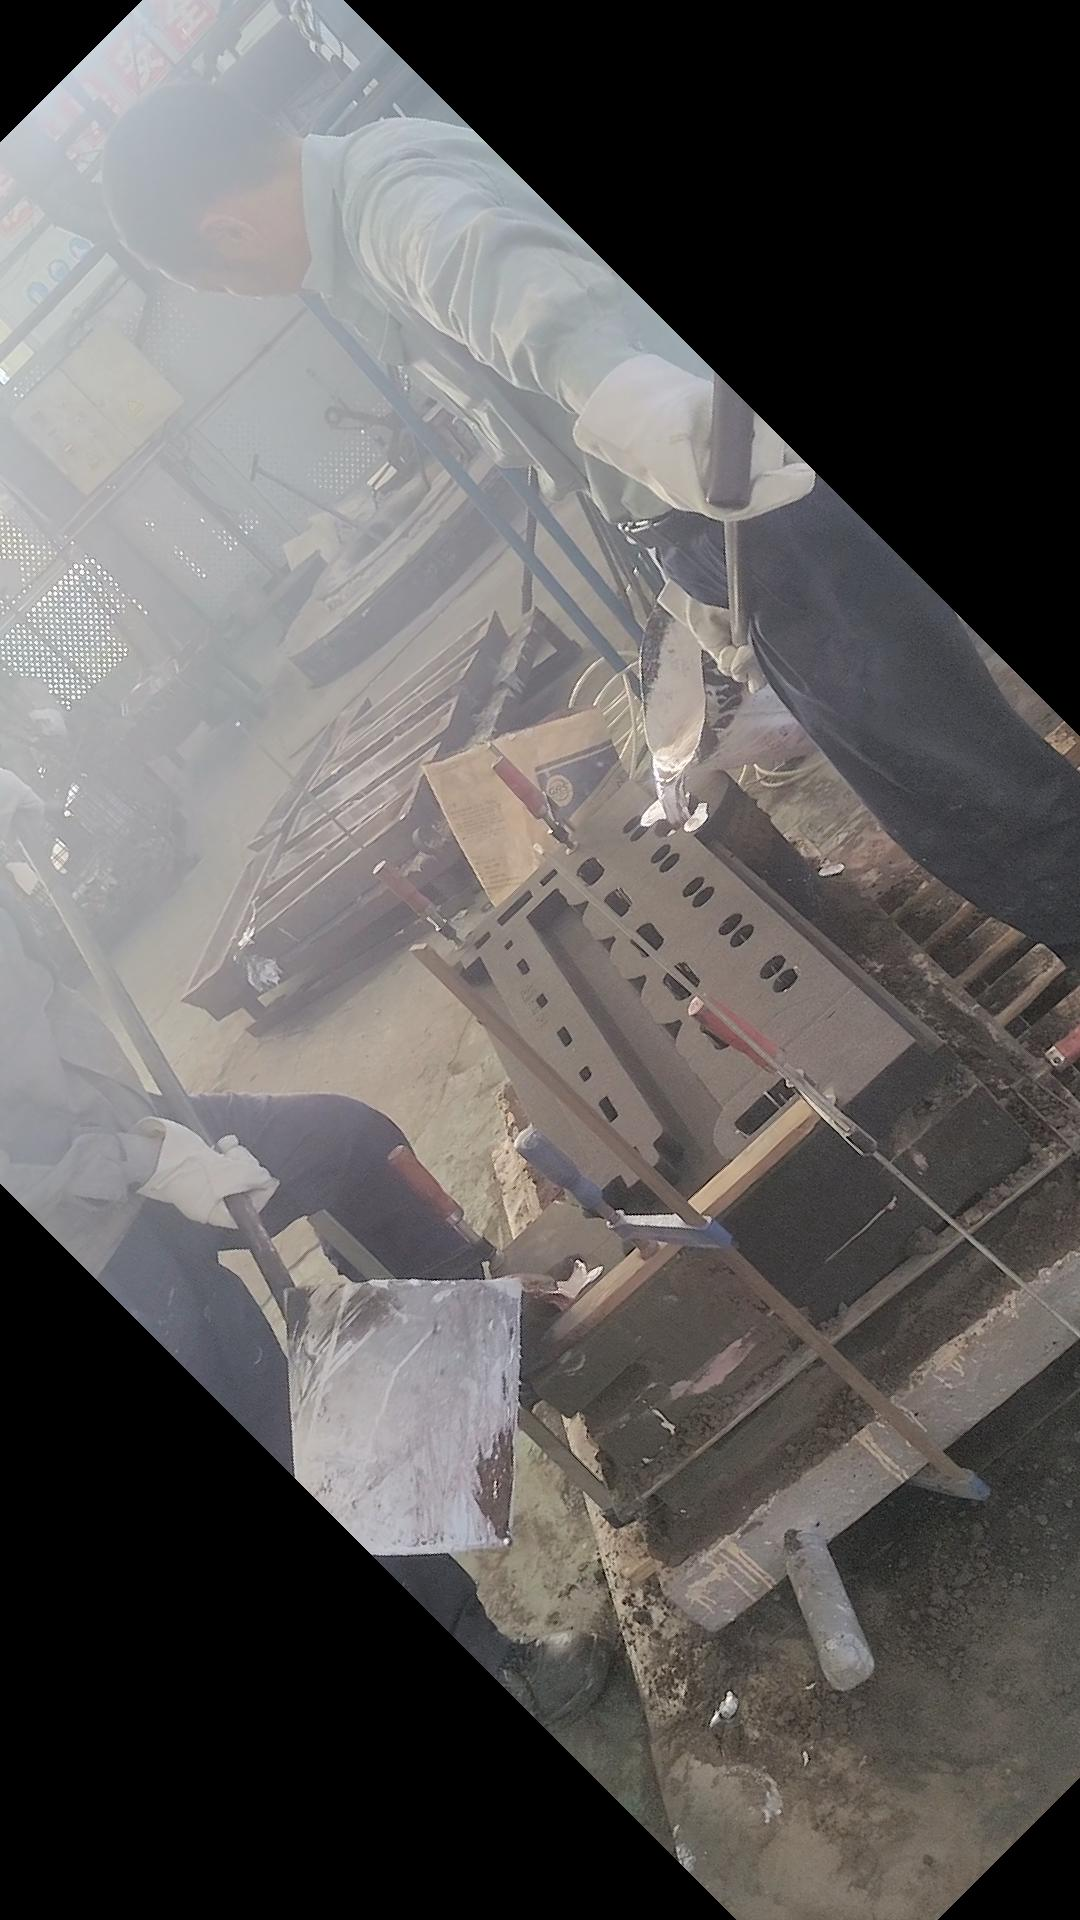pouring hole: (527, 1254, 596, 1311), (653, 793, 702, 837)
